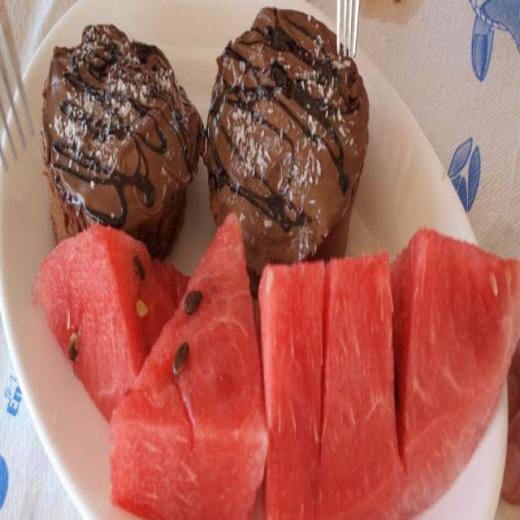Cherry: (111, 218, 268, 519), (258, 253, 404, 519), (391, 236, 520, 516), (33, 222, 187, 422)
